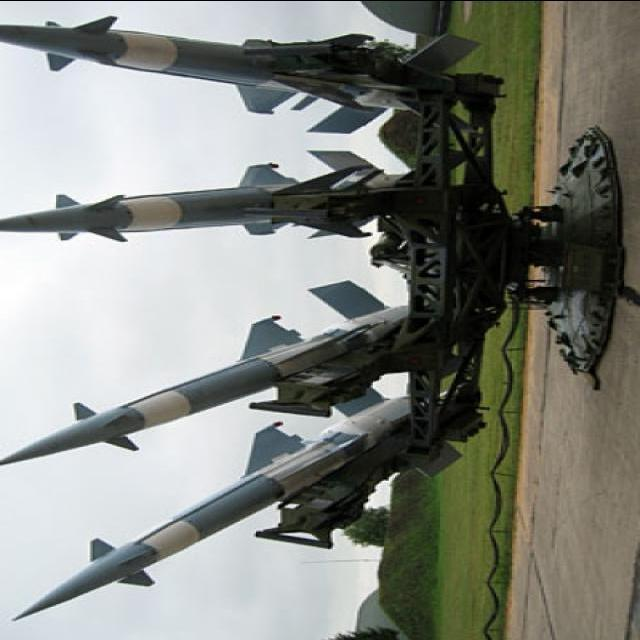missile: (16, 377, 404, 624), (1, 277, 373, 476), (28, 14, 493, 137), (11, 152, 426, 267)
